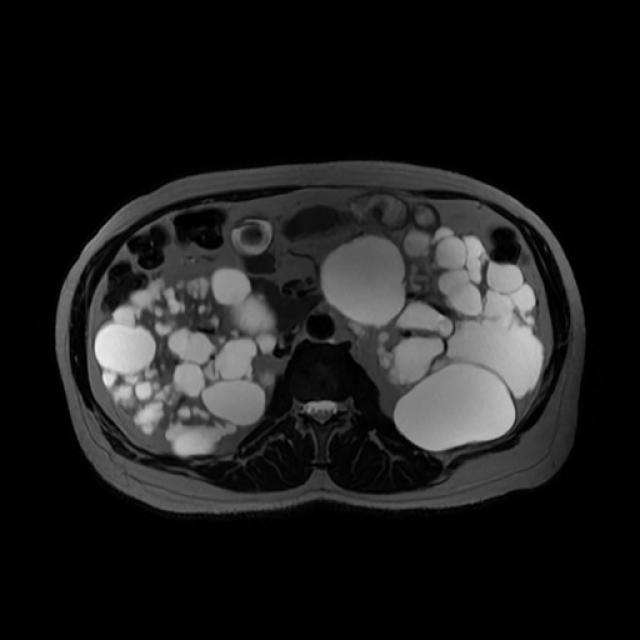sag: (94, 265, 276, 456)
sol: (318, 227, 544, 452)
